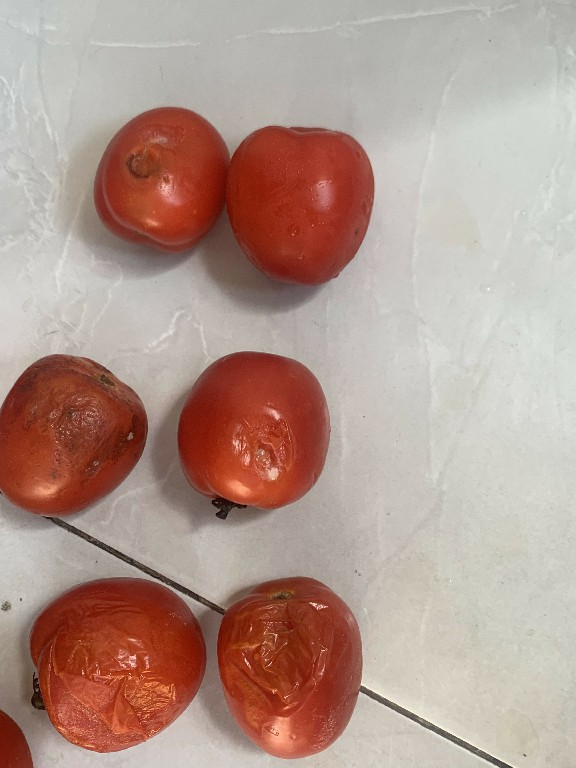NG: (20, 554, 215, 740), (169, 341, 343, 526), (215, 571, 369, 763), (0, 338, 152, 519), (91, 87, 230, 262)
OK: (224, 106, 380, 303)
